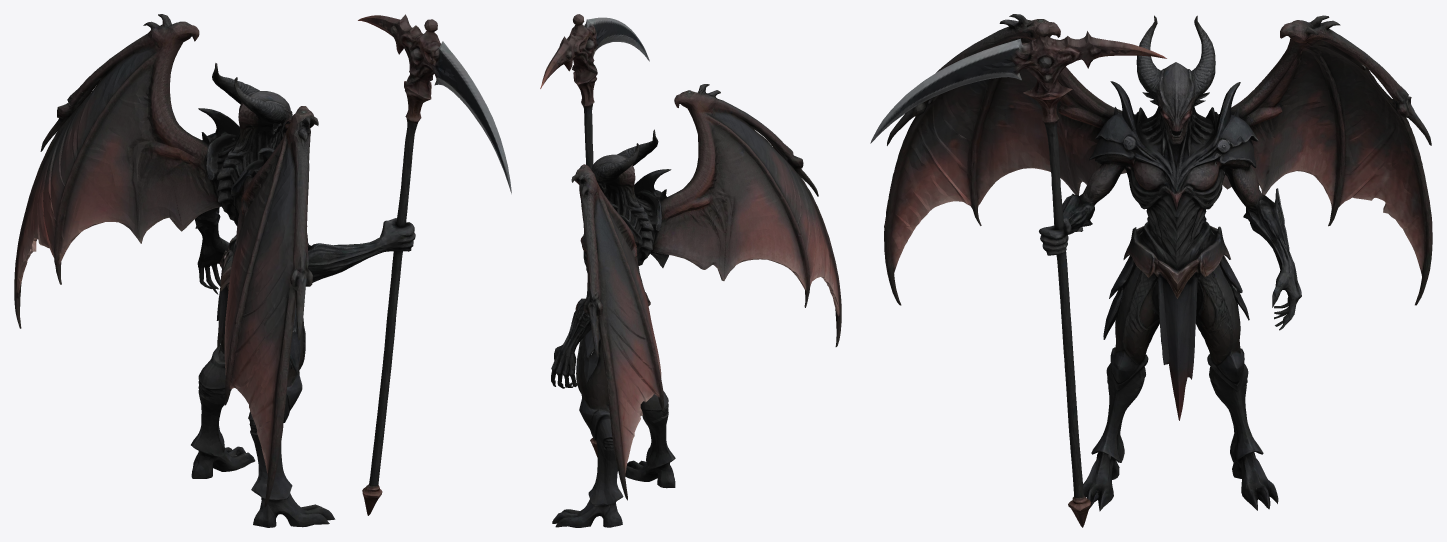
File: grim-reaper.glb
3 views of the same model, side by side, from view 1: azimuth 30°, elevation 25°; view 2: azimuth 150°, elevation 25°; view 3: azimuth 270°, elevation 25° (orthographic). The views are drawn at different scales.
Parts seen in each view (by area): view 1: tripo_node_f274233c, tripo_node_f274233c_tripo_mat_f274233c_0.001; view 2: tripo_node_f274233c, tripo_node_f274233c_tripo_mat_f274233c_0.001; view 3: tripo_node_f274233c, tripo_node_f274233c_tripo_mat_f274233c_0.001.
Boxes of the visible parts, x1,y1,x2,y2 form: tripo_node_f274233c: [14, 14, 415, 527]; tripo_node_f274233c_tripo_mat_f274233c_0.001: [155, 14, 511, 339]; tripo_node_f274233c: [540, 71, 841, 527]; tripo_node_f274233c_tripo_mat_f274233c_0.001: [545, 14, 817, 355]; tripo_node_f274233c: [884, 15, 1432, 527]; tripo_node_f274233c_tripo_mat_f274233c_0.001: [870, 14, 1294, 282].
Bounding box in the file's own units: 0.5183 × 1 × 0.9685.
Materials: 1 (1 with a texture image).
